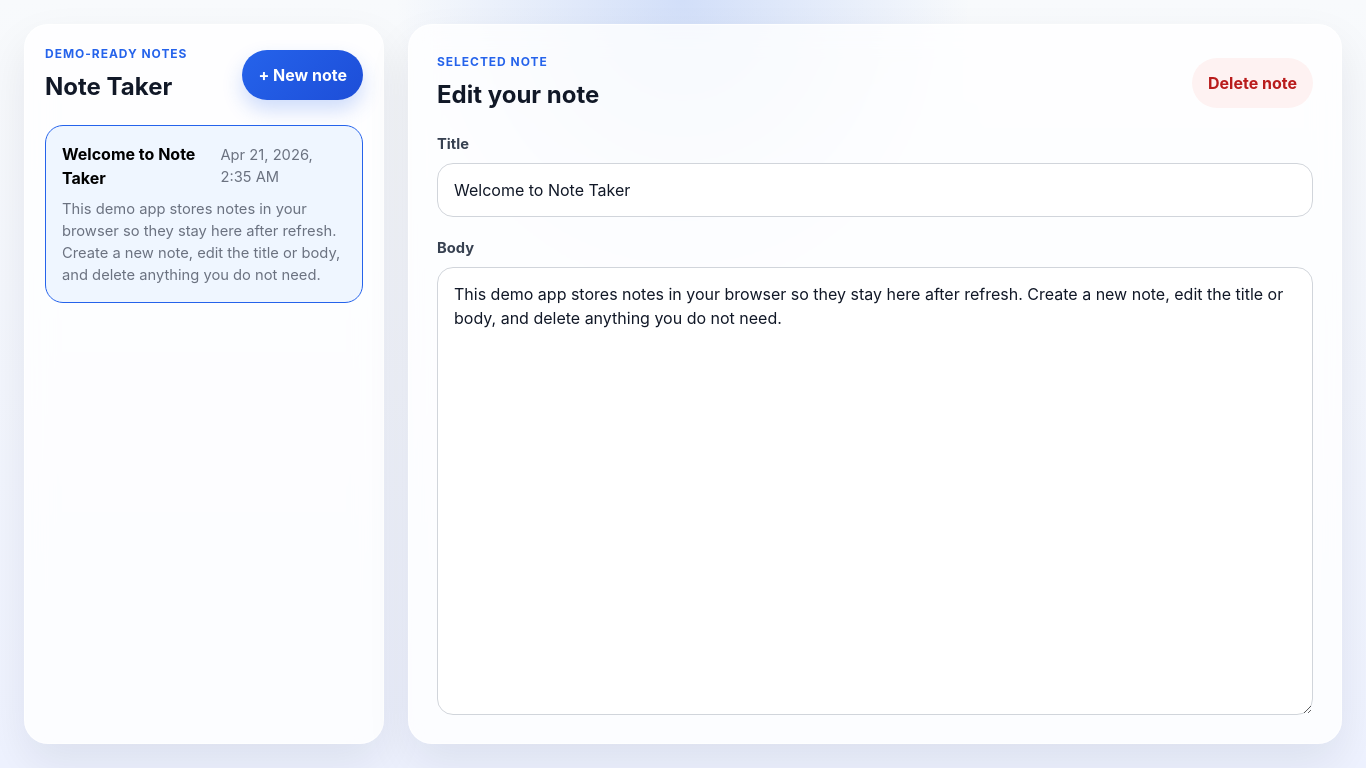
Test: App › creates, edits, and deletes notes with persistence
Click the button "+ New note" at x=303, y=75, box [242,50,363,100]
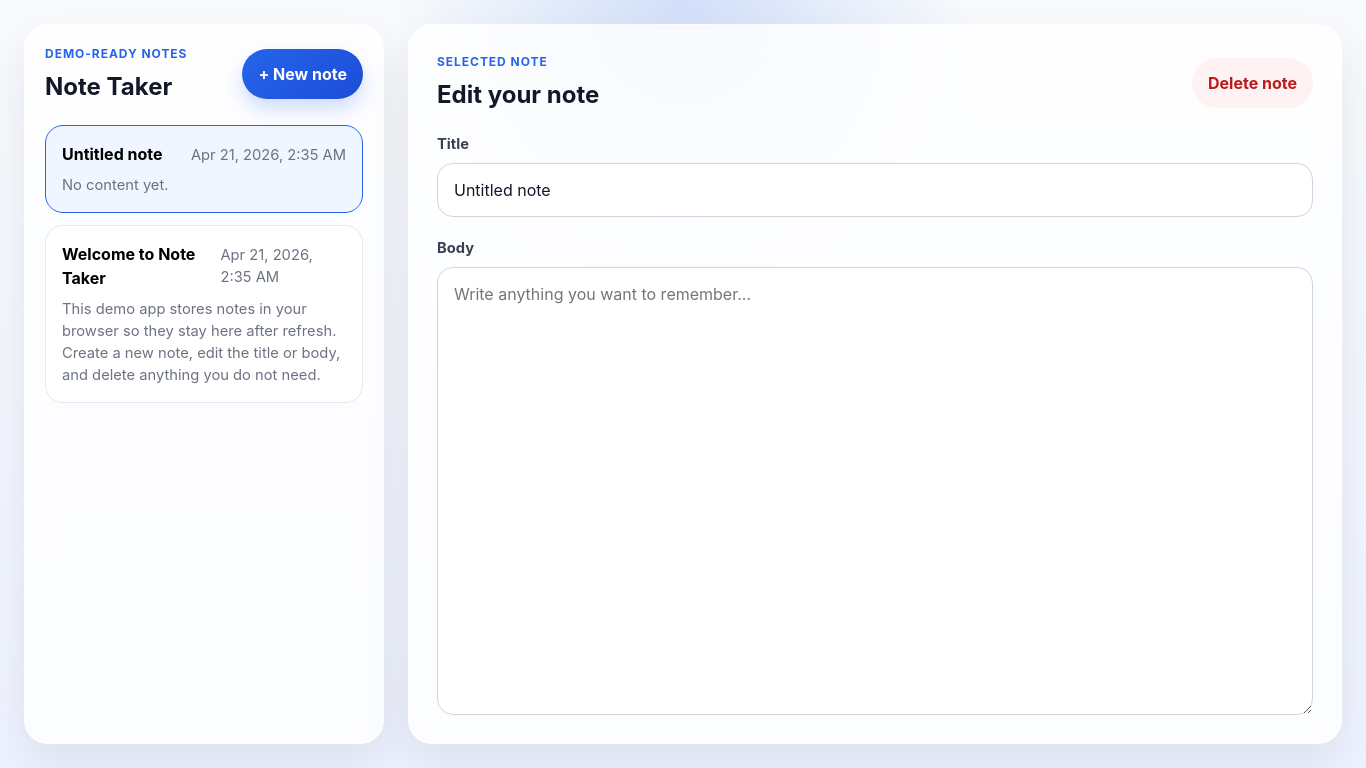
Replace the text in the field with "Sprint demo note" at x=875, y=190, box [437,163,1313,217]
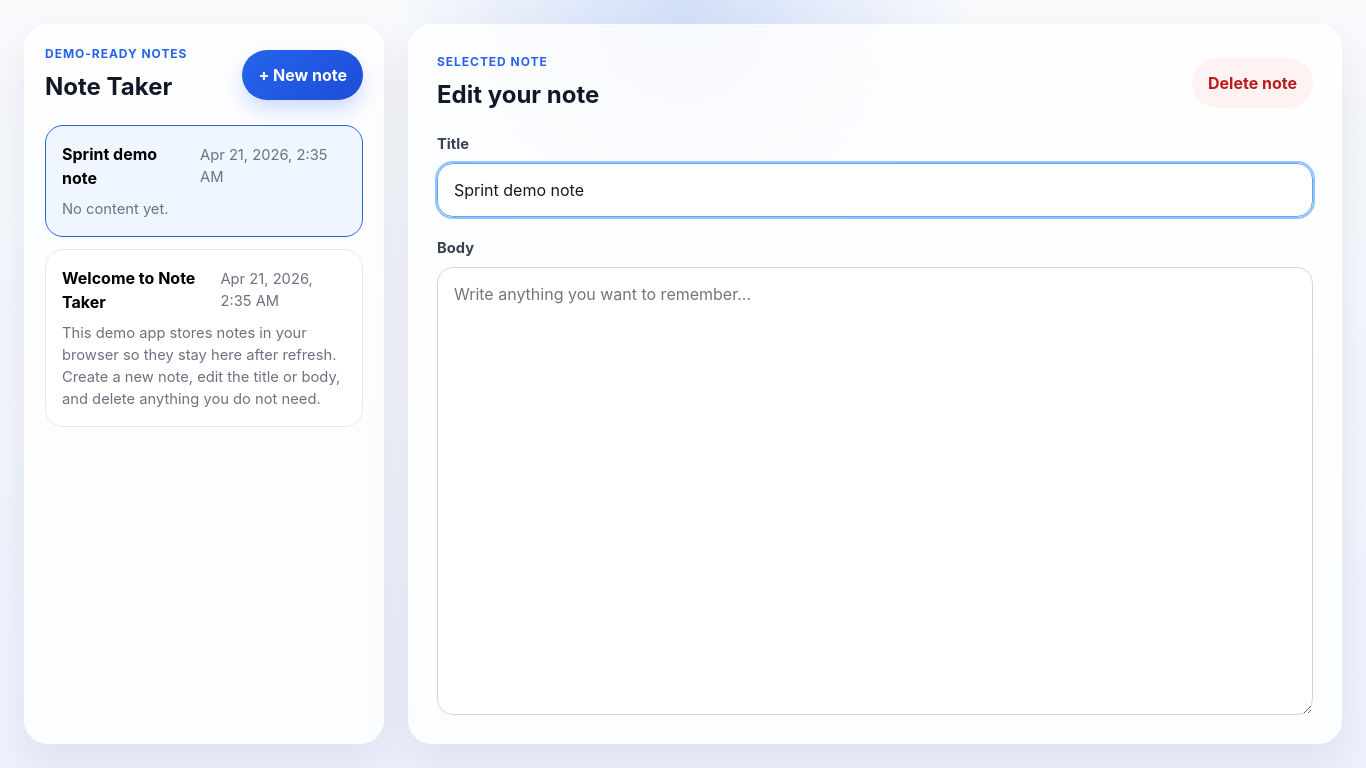
Type "Ready to show the note-taking flow." into the text box at x=875, y=491, box [437,267,1313,715]
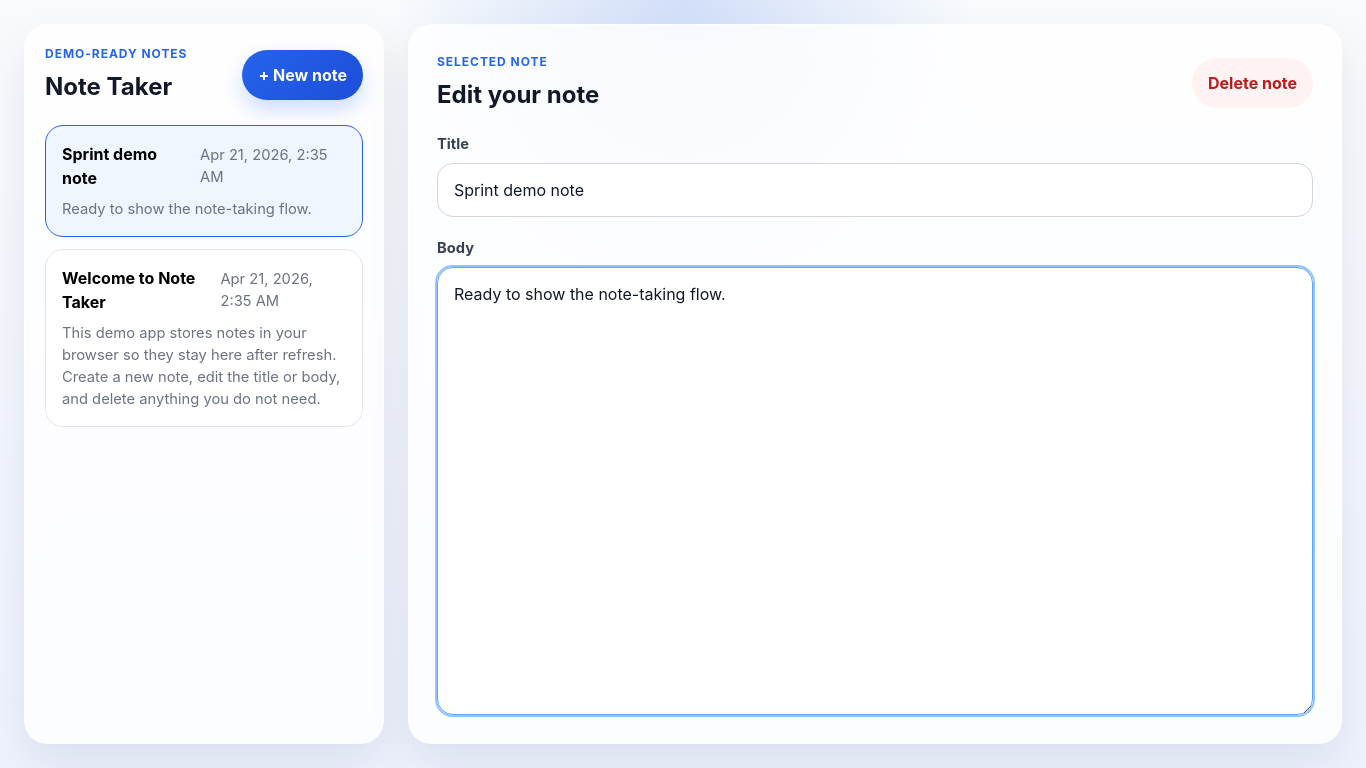
Check: the button "Sprint demo note" is shown, box [45,125,363,237]
Check: the text "Sprint demo note" is shown, box [62,144,157,188]
Check: the text "Ready to show the note-taking flow." is shown, box [62,198,346,220]
Click the button "Delete note" at x=1252, y=83, box [1192,58,1313,108]
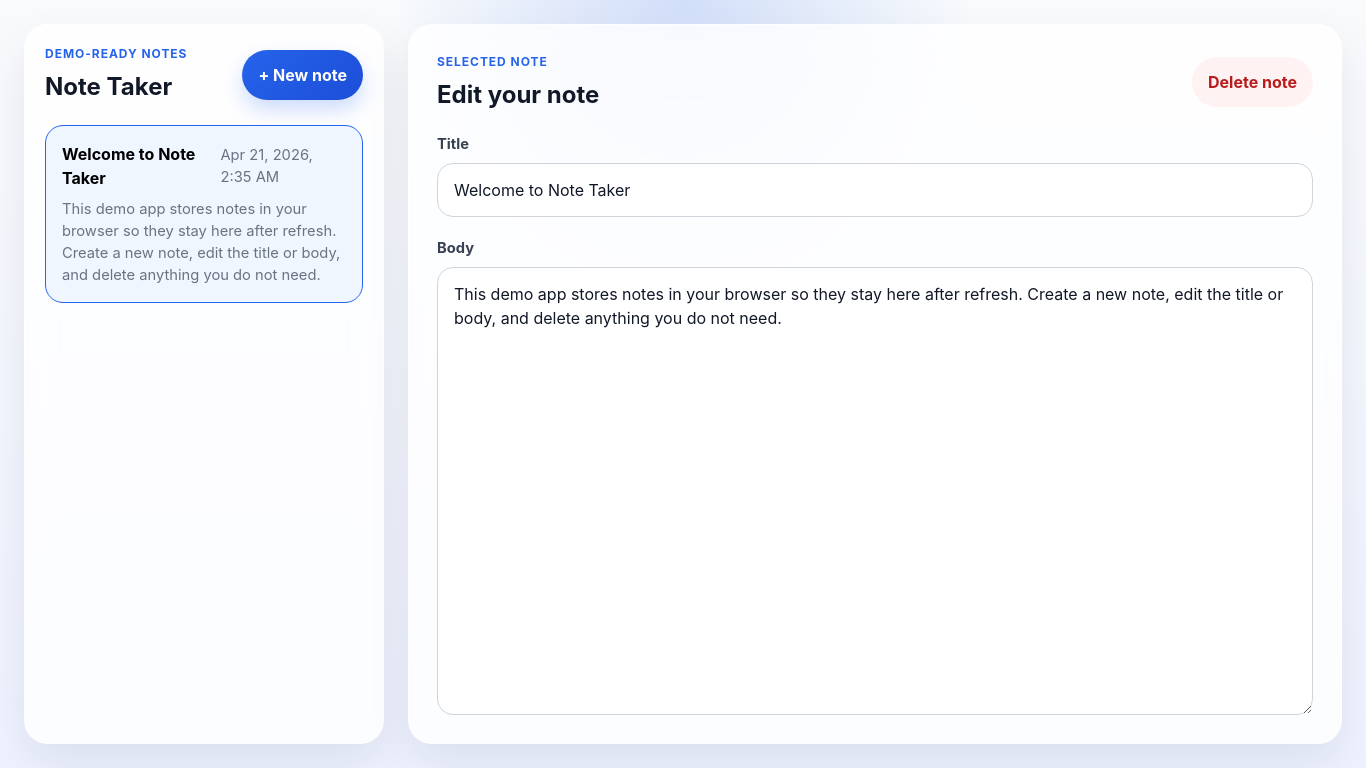
Check: the button "Sprint demo note" is gone
